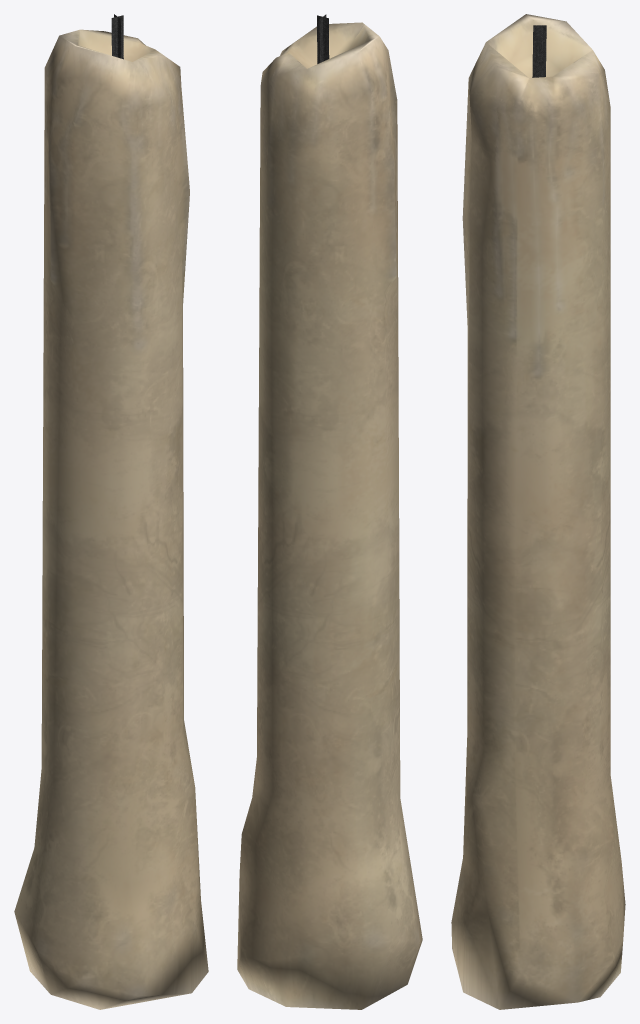
Rendered from SM_Candle_01.fbx.
3 views of the same model, side by side, from view 1: azimuth 30°, elevation 25°; view 2: azimuth 150°, elevation 25°; view 3: azimuth 270°, elevation 25° (orthographic).
Parts seen in each view (by area): view 1: SM_Candle_01_LOD0; view 2: SM_Candle_01_LOD0; view 3: SM_Candle_01_LOD0.
Boxes of the visible parts, x1,y1,x2,y2 form: SM_Candle_01_LOD0: (14,14,208,1009); SM_Candle_01_LOD0: (237,14,422,1009); SM_Candle_01_LOD0: (451,14,625,1009).
Size of the model in its own units: 11.47 by 10.73 by 64.63.
Materials: 1 (1 with a texture image).
